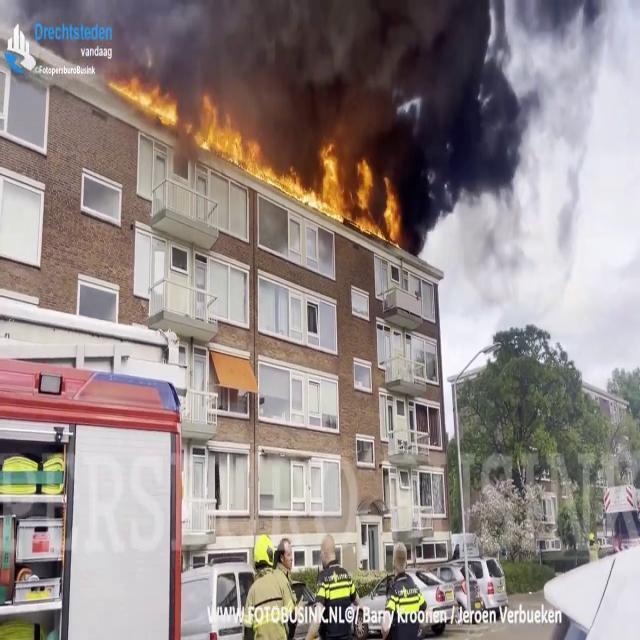Fire: (189, 95, 395, 238), (107, 69, 179, 126)
Smoke: (116, 0, 558, 225)
